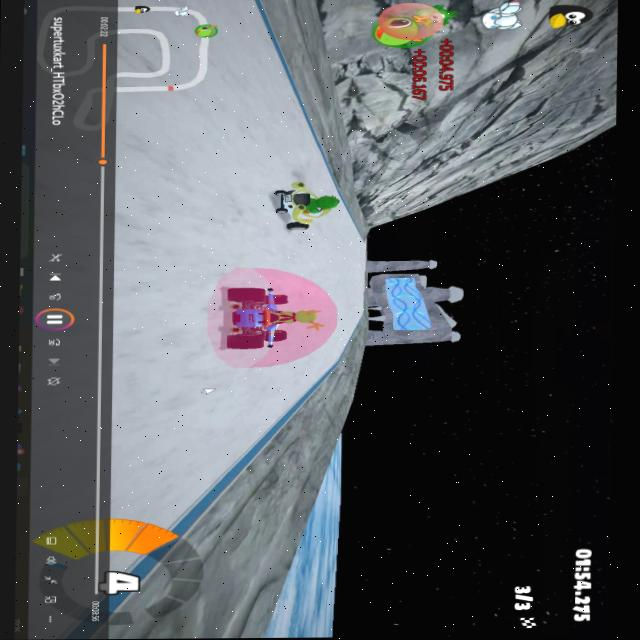enemy_kart: (264, 179, 338, 233)
